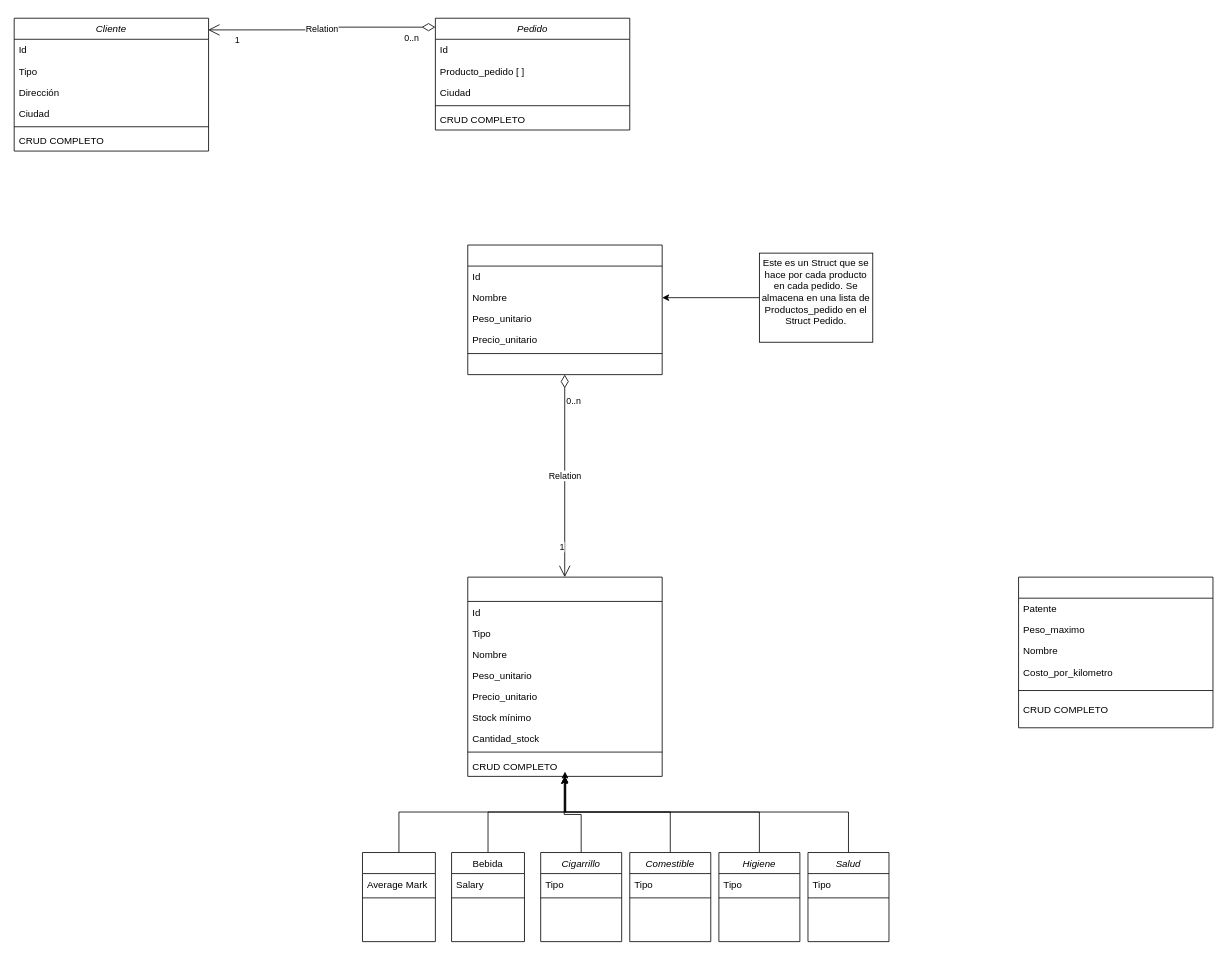
Some shapes in this 1227 by 956 pixel diagram are drawn without their labels. Here are the shapes that lost their labels. From the top down, the box of each, then its label:
(467, 244, 662, 375): Producto_pedido
(1018, 576, 1213, 728): Camion
(467, 576, 662, 776): Producto
(362, 852, 435, 942): Golosina
